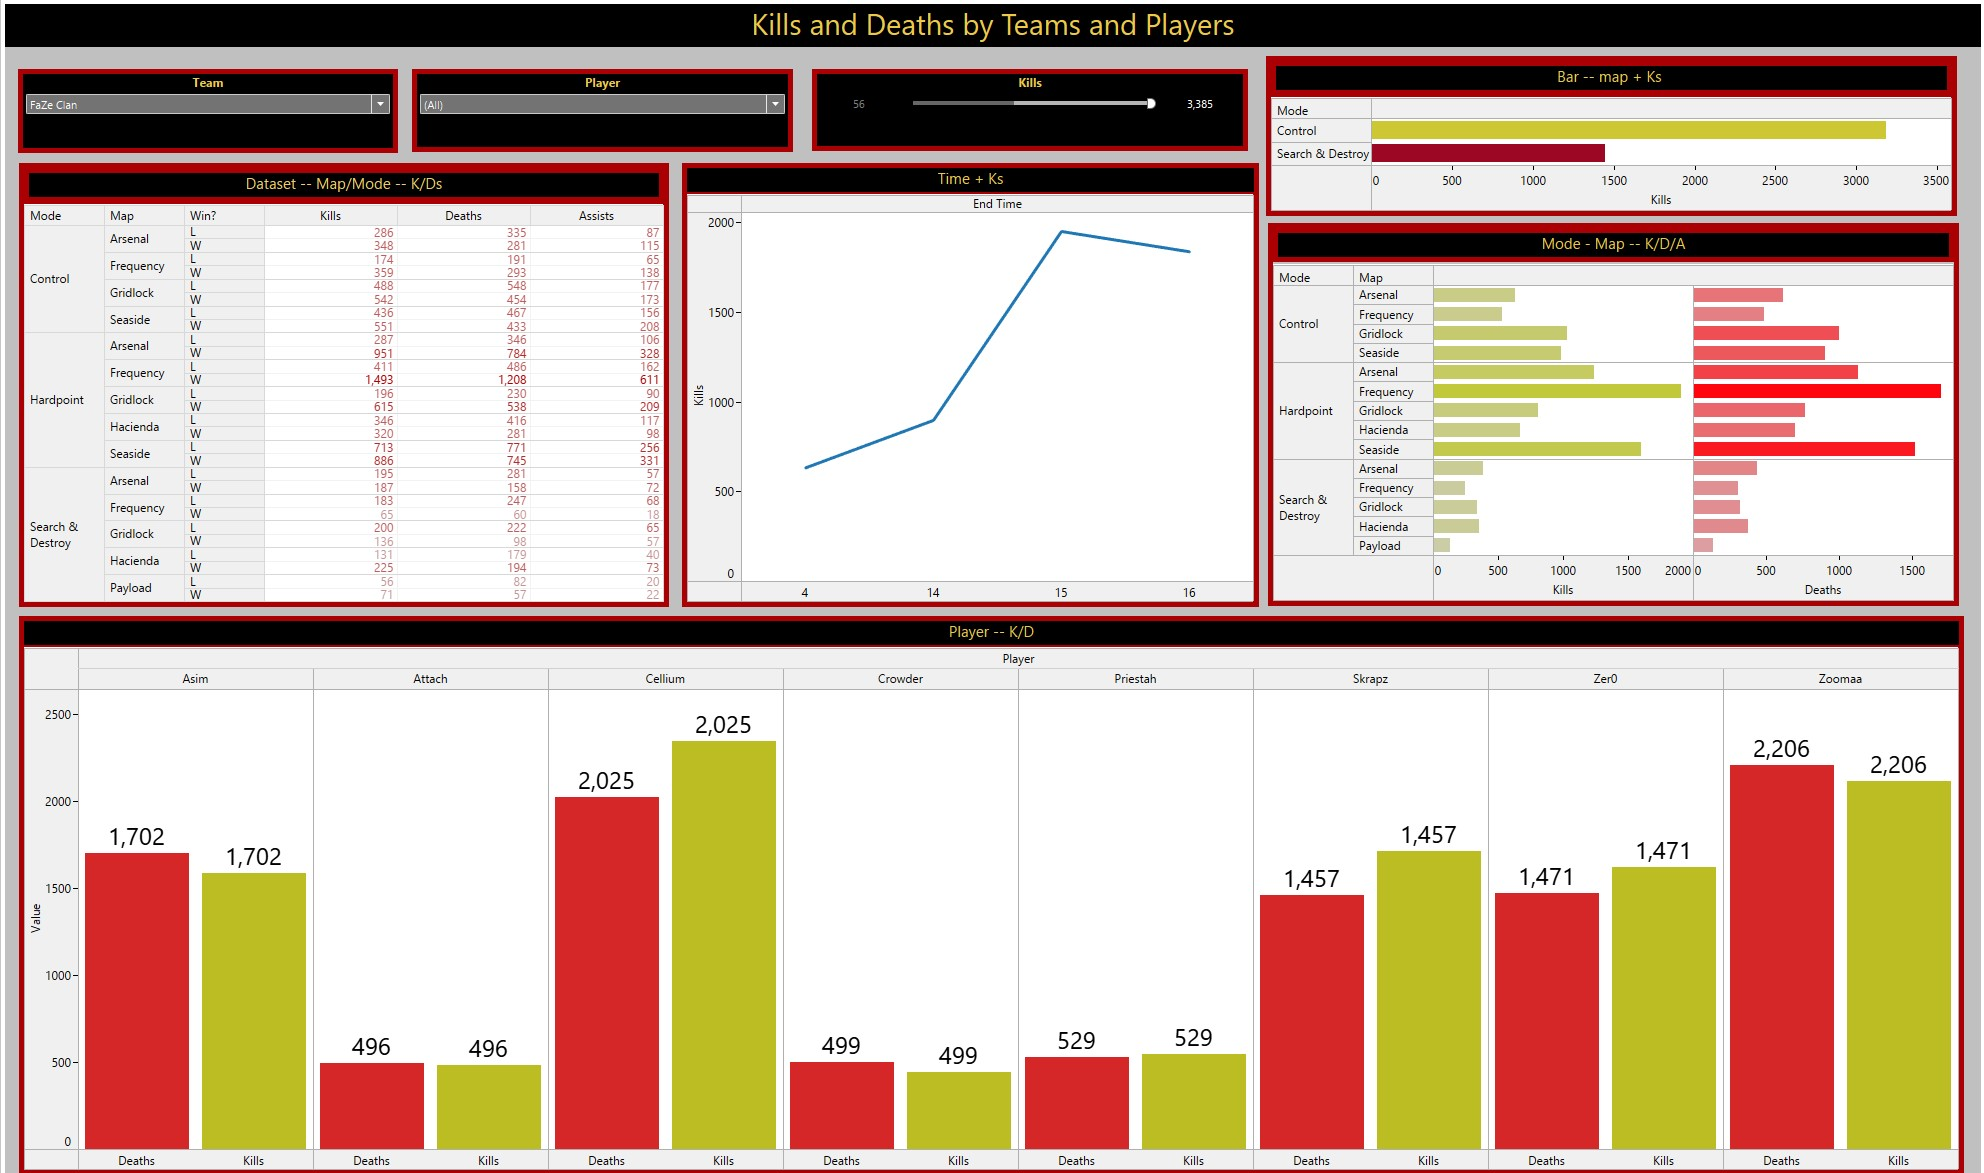

Layout of this report page (visuals, bound fields, positions):
{"tool":"tableau","page":{"name":"DB K/D Updated","canvas":[2000,1200],"ordinal":1},"visuals":[{"type":"worksheet","title":"Title K/D","mark":"Automatic","box":[8,8,1984,1184]},{"type":"worksheet","title":"Bar -- map + Ks ","mark":"Automatic","rows":["mode"],"cols":["kills"],"box":[1273,64,691,160]},{"type":"filter","title":"Dataset -- Map/Mode -- K/Ds","param":"[federated.17981bc0ifiomw1fl53fv0hb09y5].[none:team:nk]","box":[25,77,380,84]},{"type":"filter","title":"Dataset -- Map/Mode -- K/Ds","param":"[federated.17981bc0ifiomw1fl53fv0hb09y5].[none:player:nk]","box":[419,77,381,83]},{"type":"filter","title":"Dataset -- Map/Mode -- K/Ds","param":"[federated.17981bc0ifiomw1fl53fv0hb09y5].[sum:kills:qk]","box":[819,77,436,82]},{"type":"worksheet","title":"Dataset -- Map/Mode -- K/Ds","mark":"Automatic","rows":["mode","map","win?"],"box":[26,171,650,444]},{"type":"worksheet","title":"Time + Ks","mark":"Automatic","rows":["kills"],"cols":["end time"],"box":[689,171,577,444]},{"type":"worksheet","title":"Mode - Map -- K/D/A","mark":"Automatic","rows":["mode","map"],"cols":["kills","deaths"],"box":[1275,231,691,383]},{"type":"worksheet","title":"Player -- K/D","mark":"Automatic","cols":["player"],"box":[26,624,1945,559]}]}

Visuals, with their boxes in screenshot pixels (x1, y1, x2, y2), scaled from the page's 2000x1200 canvas onto the 1984x1173 screenshot:
"Title K/D" worksheet: {"x1": 8, "y1": 8, "x2": 1976, "y2": 1165}
"Bar -- map + Ks " worksheet: {"x1": 1263, "y1": 63, "x2": 1948, "y2": 219}
"Dataset -- Map/Mode -- K/Ds" filter: {"x1": 25, "y1": 75, "x2": 402, "y2": 157}
"Dataset -- Map/Mode -- K/Ds" filter: {"x1": 416, "y1": 75, "x2": 794, "y2": 156}
"Dataset -- Map/Mode -- K/Ds" filter: {"x1": 812, "y1": 75, "x2": 1245, "y2": 155}
"Dataset -- Map/Mode -- K/Ds" worksheet: {"x1": 26, "y1": 167, "x2": 671, "y2": 601}
"Time + Ks" worksheet: {"x1": 683, "y1": 167, "x2": 1256, "y2": 601}
"Mode - Map -- K/D/A" worksheet: {"x1": 1265, "y1": 226, "x2": 1950, "y2": 600}
"Player -- K/D" worksheet: {"x1": 26, "y1": 610, "x2": 1955, "y2": 1156}
